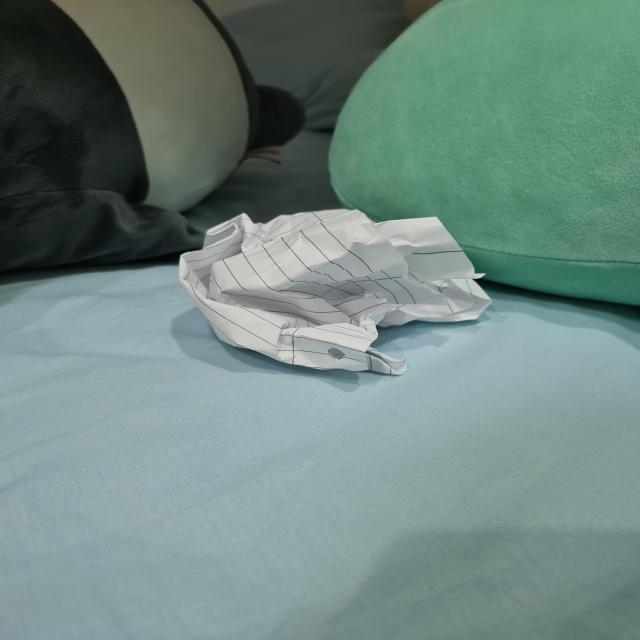cardboard paper: (178, 208, 489, 373)
